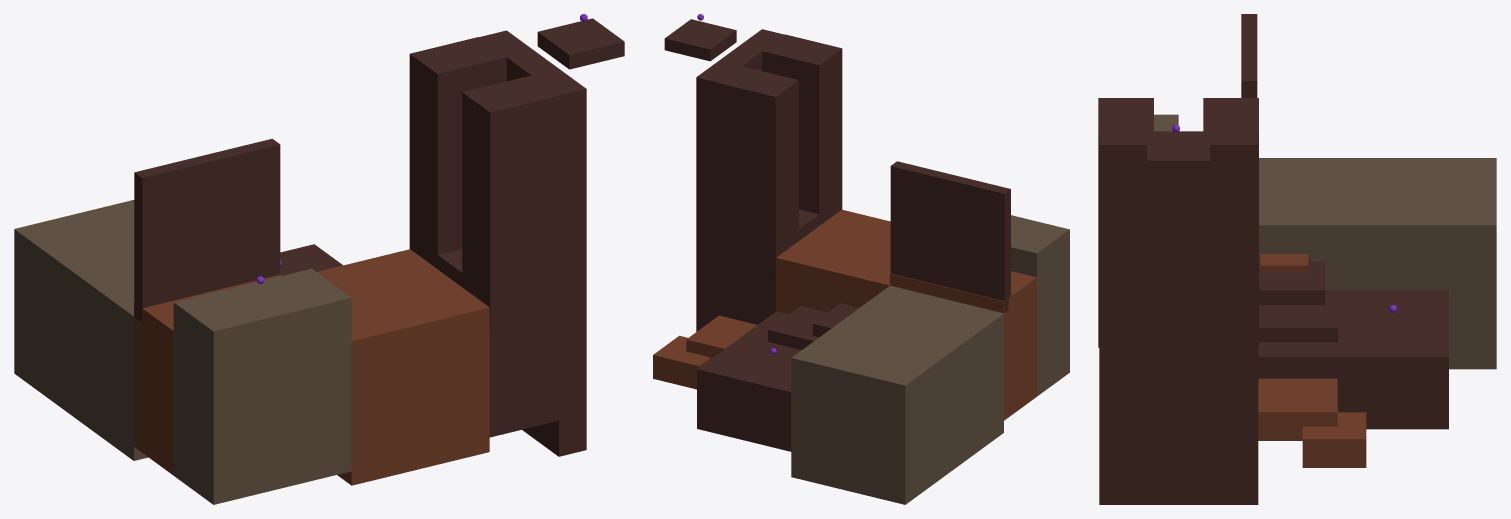
File: Section_1A_2.fbx
3 renders of one model, left to right at view 1: azimuth 30°, elevation 25°; view 2: azimuth 150°, elevation 25°; view 3: azimuth 270°, elevation 25°, orthographic. The views are drawn at different scales.
Parts seen in each view (by area): view 1: Cube__13_, Cube__17_, Cube__21_, Cube__28_, Cube__53_, Cube__39_, Cube__38_, Cube__18_, Cube__20_, Cube__40_, Cube__22_; view 2: Cube__21_, Cube__38_, Cube__53_, Cube__22_, Cube__17_, Cube__28_, Cube__39_, Cube__13_, Cube__20_, Cube__18_, Cube__40_, Cube__47_ (+3 smaller); view 3: Cube__39_, Cube__21_, Cube__22_, Cube__25_, Cube__49_, Cube__47_, Cube__40_, Cube__48_, Cube__28_, Cube__38_, Cube__53_, Cube__56_.
Part boxes in pixels (x1=…): Cube__13_: x1=173, y1=268, x2=351, y2=504; Cube__17_: x1=317, y1=249, x2=489, y2=485; Cube__21_: x1=14, y1=200, x2=148, y2=460; Cube__28_: x1=462, y1=75, x2=559, y2=329; Cube__53_: x1=134, y1=138, x2=280, y2=322; Cube__39_: x1=479, y1=30, x2=586, y2=456; Cube__38_: x1=409, y1=37, x2=506, y2=268; Cube__18_: x1=410, y1=235, x2=558, y2=437; Cube__20_: x1=134, y1=274, x2=281, y2=475; Cube__40_: x1=537, y1=18, x2=624, y2=69; Cube__22_: x1=280, y1=244, x2=342, y2=275; Cube__21_: x1=791, y1=285, x2=1003, y2=504; Cube__38_: x1=718, y1=66, x2=798, y2=275; Cube__53_: x1=890, y1=161, x2=1010, y2=312; Cube__22_: x1=697, y1=311, x2=801, y2=451; Cube__17_: x1=776, y1=209, x2=890, y2=314; Cube__28_: x1=762, y1=34, x2=842, y2=225; Cube__39_: x1=696, y1=29, x2=784, y2=331; Cube__13_: x1=1011, y1=215, x2=1069, y2=396; Cube__20_: x1=890, y1=271, x2=1036, y2=420; Cube__18_: x1=719, y1=198, x2=841, y2=324; Cube__40_: x1=664, y1=19, x2=736, y2=61; Cube__47_: x1=653, y1=335, x2=710, y2=389; Cube__39_: x1=1099, y1=131, x2=1258, y2=504; Cube__21_: x1=1259, y1=158, x2=1496, y2=369; Cube__22_: x1=1258, y1=290, x2=1448, y2=429; Cube__25_: x1=1258, y1=378, x2=1337, y2=440; Cube__49_: x1=1259, y1=294, x2=1338, y2=342; Cube__47_: x1=1302, y1=412, x2=1366, y2=467; Cube__40_: x1=1147, y1=134, x2=1210, y2=174; Cube__48_: x1=1259, y1=261, x2=1325, y2=304; Cube__28_: x1=1098, y1=98, x2=1153, y2=347; Cube__38_: x1=1203, y1=98, x2=1258, y2=347; Cube__53_: x1=1241, y1=14, x2=1257, y2=97; Cube__56_: x1=1260, y1=254, x2=1308, y2=272.
Bounding box in the file's own units: 3150 × 2759 × 2505.
